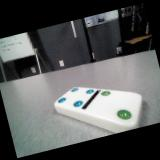domino: (54, 86, 141, 132)
